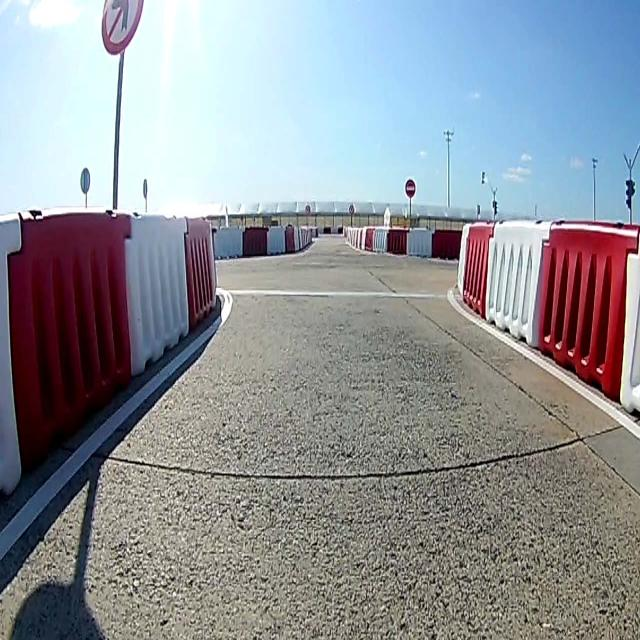girisyok: (405, 178, 415, 198)
soladonulmez: (101, 0, 145, 53)
